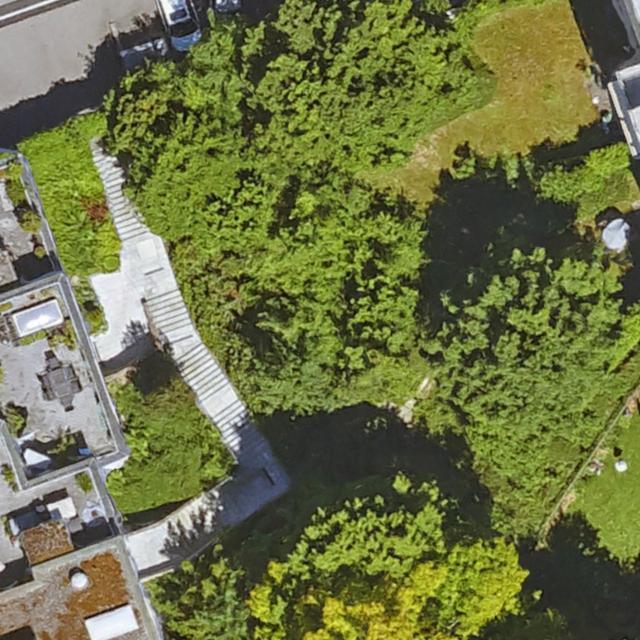tree: (211, 171, 424, 398), (288, 480, 520, 640), (432, 251, 622, 435), (163, 555, 280, 640), (137, 374, 200, 430), (17, 210, 41, 234)
